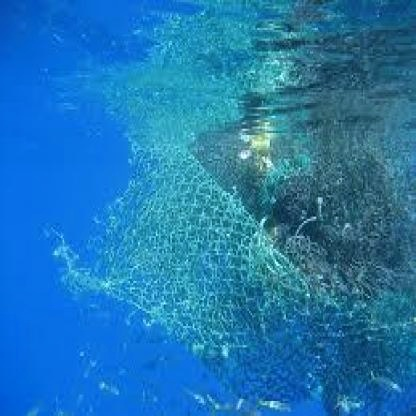net: (108, 107, 411, 365)
